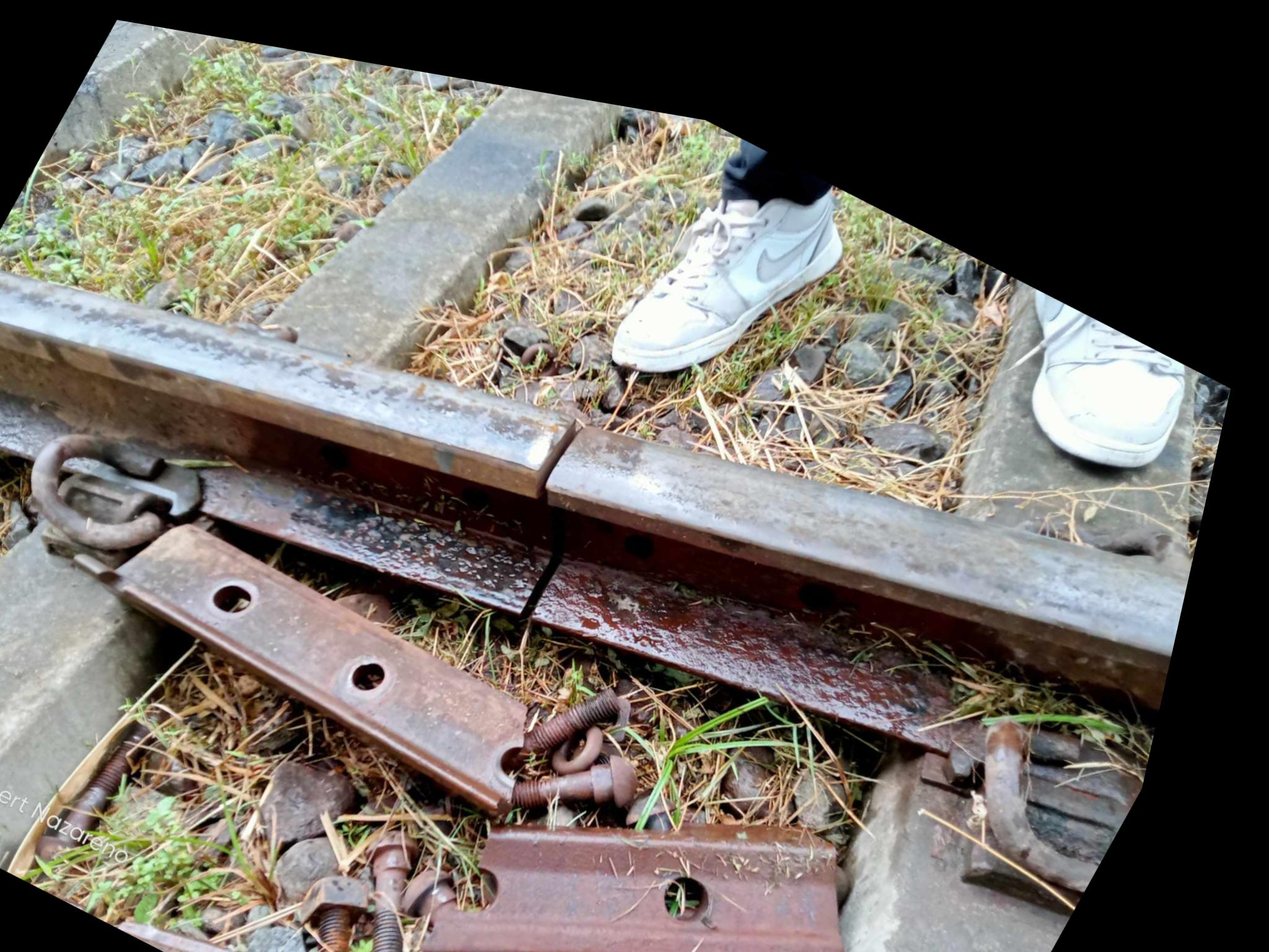person: (387, 324, 747, 665)
